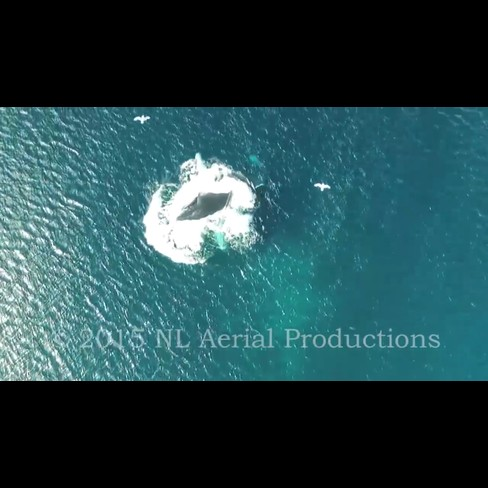hump: (158, 158, 258, 258)
